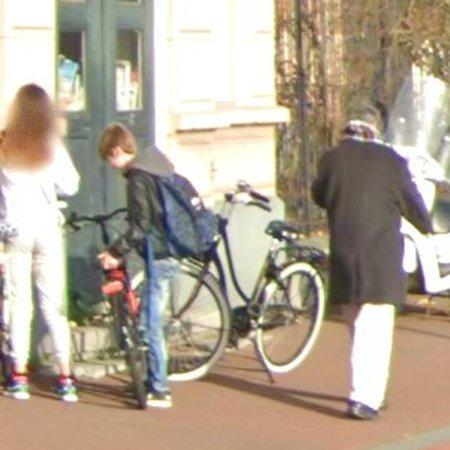bicycles: (167, 217, 327, 382), (99, 258, 147, 409), (66, 208, 126, 247), (226, 182, 271, 215)
